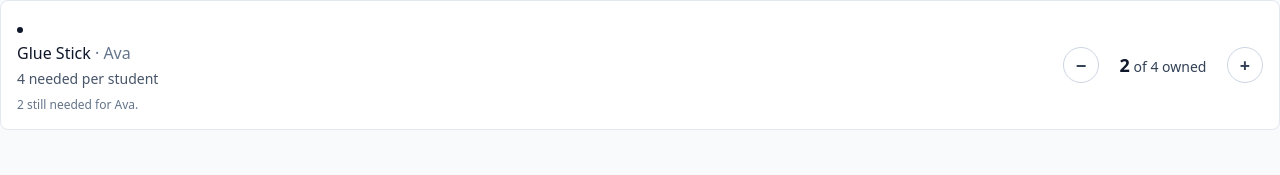
Test: InventoryStepperRow › reverts the count and shows an error if the save fails
Click the button named "Increase owned Glue Stick for Ava": (1245,65) top-left (1227, 47), bottom-right (1263, 83)
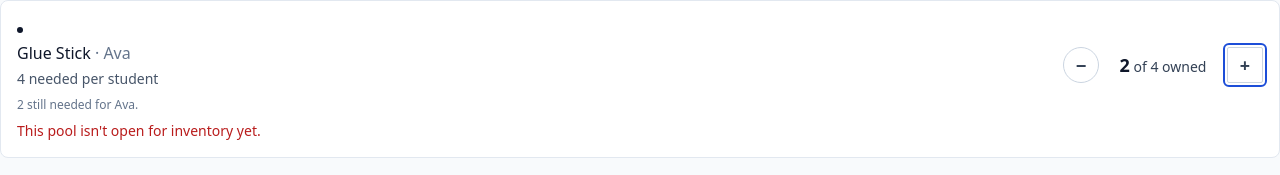
Check: the text "2" is shown, box top-left (1120, 53), bottom-right (1130, 77)
Check: the text "This pool isn't open for inventory yet." is shown, box top-left (17, 121), bottom-right (261, 140)
